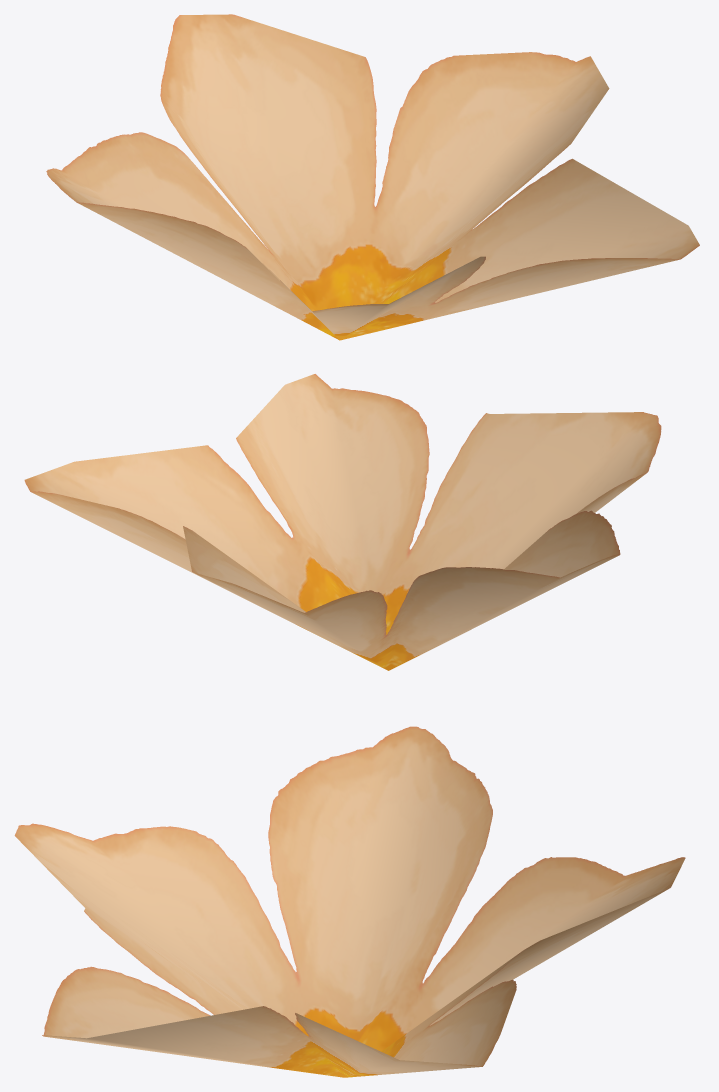
File: Petal_2.fbx
The picture shows the model from 3 angles, top to bottom: view 1: azimuth 30°, elevation 25°; view 2: azimuth 150°, elevation 25°; view 3: azimuth 270°, elevation 25°; orthographic projection. The views are drawn at different scales.
Visible parts, largest first — view 1: Petal_2; view 2: Petal_2; view 3: Petal_2.
Part boxes in pixels (<box>): Petal_2: <box>46,14,699,340</box>; Petal_2: <box>24,374,661,670</box>; Petal_2: <box>14,726,685,1077</box>.
Bounding box in the file's own units: 67.32 × 23.61 × 63.11.
1 material, 1 textured.
